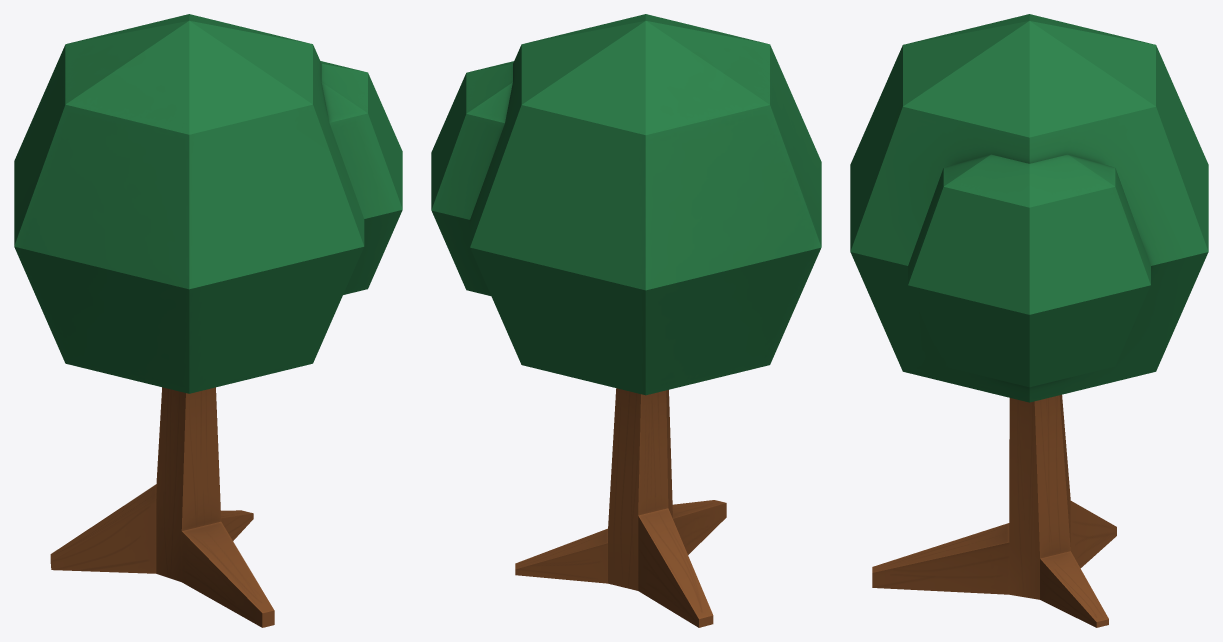
The model's file is tree1.fbx.
The picture shows the model from 3 angles, left to right: view 1: azimuth 30°, elevation 25°; view 2: azimuth 150°, elevation 25°; view 3: azimuth 270°, elevation 25°; orthographic projection. The views are drawn at different scales.
Visible parts, largest first — view 1: polySurface16, polySurface18, polySurface17; view 2: polySurface16, polySurface18, polySurface17; view 3: polySurface16, polySurface17, polySurface18.
Boxes of the visible parts, box(x1,y1,x2,y2) form: polySurface16: box(14, 14, 364, 393); polySurface18: box(50, 387, 274, 627); polySurface17: box(320, 61, 402, 294); polySurface16: box(470, 14, 821, 395); polySurface18: box(515, 388, 726, 627); polySurface17: box(431, 61, 513, 295); polySurface16: box(850, 14, 1208, 402); polySurface17: box(908, 154, 1150, 387); polySurface18: box(872, 394, 1116, 627).
Bounding box in the file's own units: 10.32 × 13.97 × 8.06.
